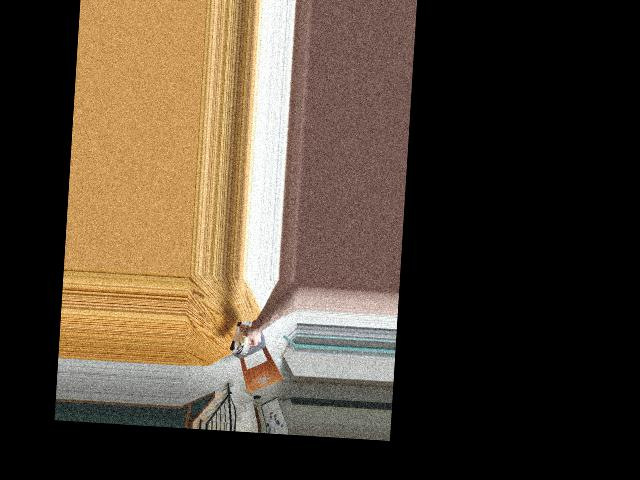cheese: (229, 319, 254, 354)
